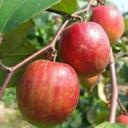apple: (90, 7, 125, 46)
